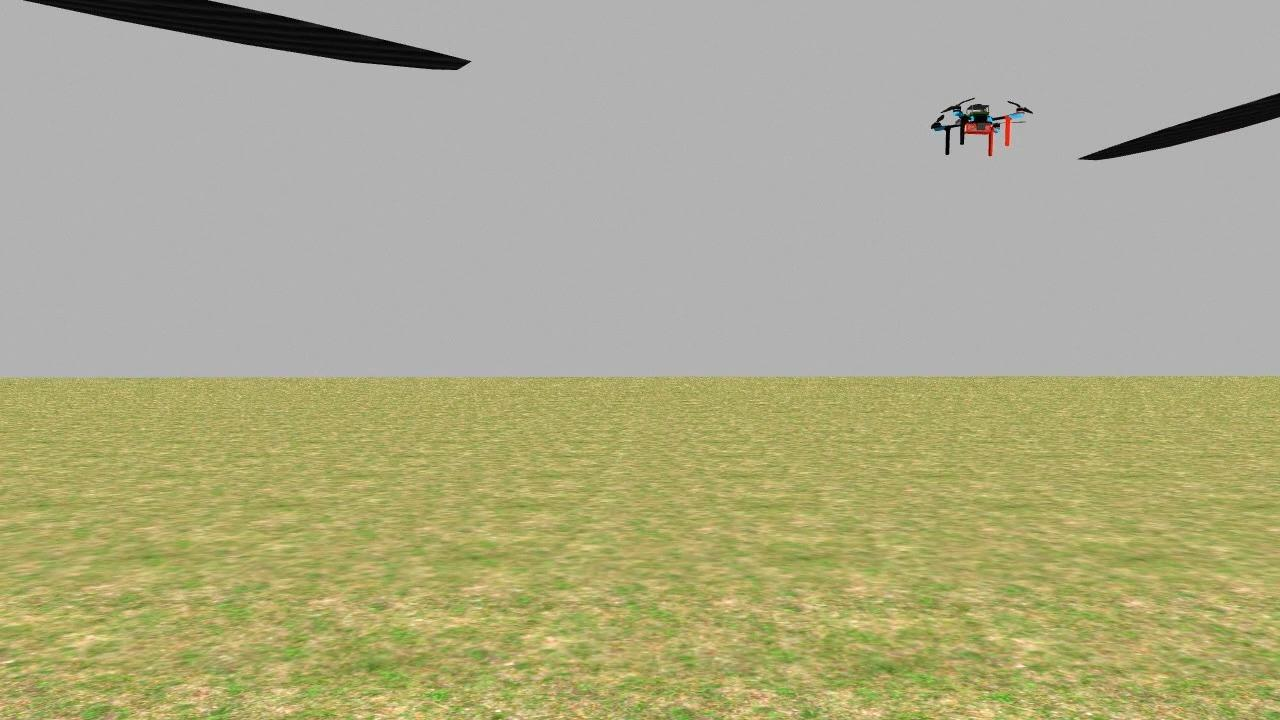UAV: (910, 82, 1057, 174)
